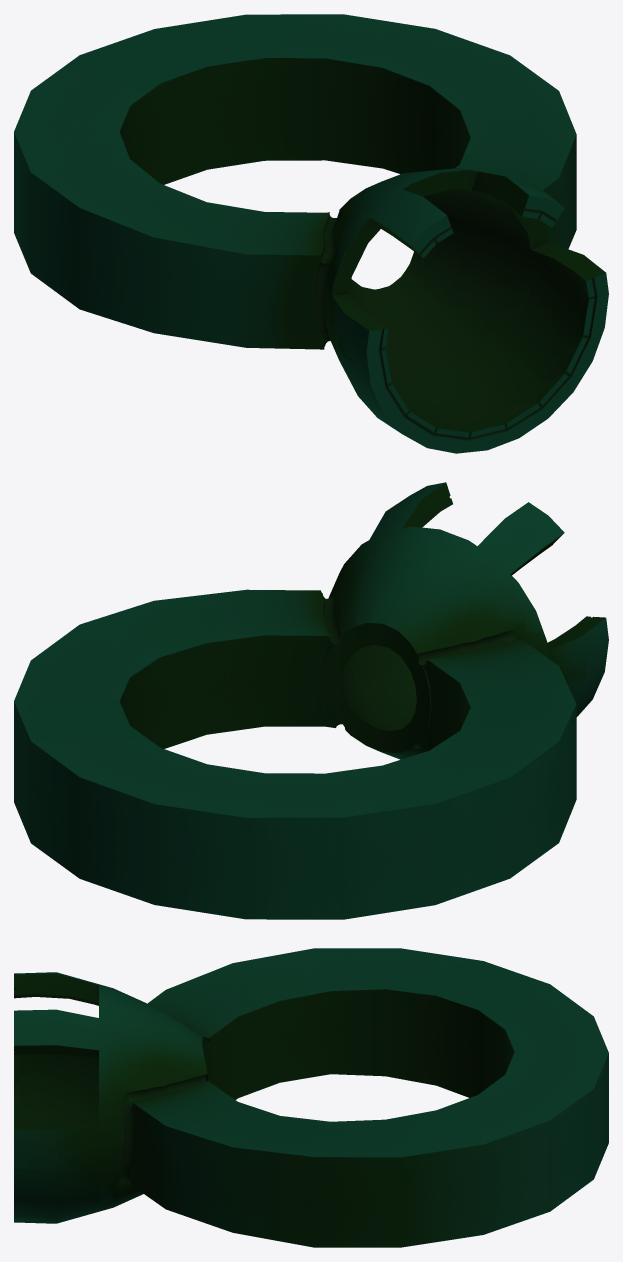
3 views of the same model, one above another, from view 1: azimuth 30°, elevation 25°; view 2: azimuth 150°, elevation 25°; view 3: azimuth 270°, elevation 25° (orthographic). The views are drawn at different scales.
Visible parts, largest first — view 1: 213_DaMo_ZhuaXiang_001, 213_DaMo_ZhuaXiang_002; view 2: 213_DaMo_ZhuaXiang_001, 213_DaMo_ZhuaXiang_002; view 3: 213_DaMo_ZhuaXiang_001, 213_DaMo_ZhuaXiang_002.
Boxes of the visible parts, bbox=[...] form: 213_DaMo_ZhuaXiang_001: bbox=[14, 14, 608, 453]; 213_DaMo_ZhuaXiang_002: bbox=[328, 261, 608, 449]; 213_DaMo_ZhuaXiang_001: bbox=[14, 482, 608, 919]; 213_DaMo_ZhuaXiang_002: bbox=[348, 641, 608, 728]; 213_DaMo_ZhuaXiang_001: bbox=[14, 948, 608, 1247]; 213_DaMo_ZhuaXiang_002: bbox=[14, 1054, 113, 1223].
Bounding box in the file's own units: 2.36 × 1.17 × 2.85.
Materials: 1 (1 with a texture image).
